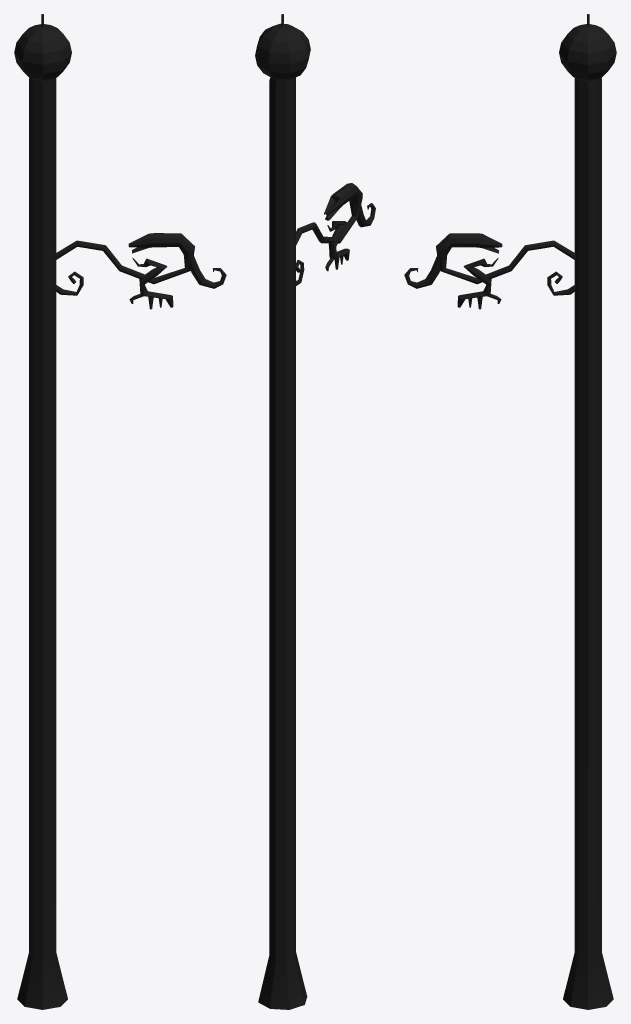
File: chineselamppost.fbx
The picture shows the model from 3 angles, left to right: view 1: azimuth 90°, elevation 25°; view 2: azimuth 150°, elevation 25°; view 3: azimuth 270°, elevation 25°; orthographic projection.
Visible parts, largest first — view 1: pCylinder8; view 2: pCylinder8; view 3: pCylinder8.
Boxes of the visible parts, box(x1,y1,x2,y2) form: pCylinder8: box(14, 14, 226, 1009); pCylinder8: box(255, 14, 375, 1009); pCylinder8: box(404, 14, 616, 1009).
Size of the model in its own units: 0.3137 by 5.89 by 1.15.
